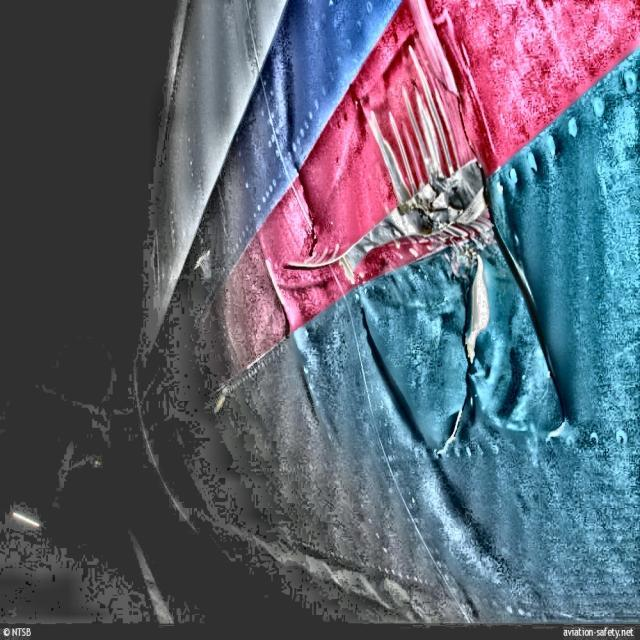crack: (463, 252, 493, 374)
dent: (483, 347, 528, 422)
